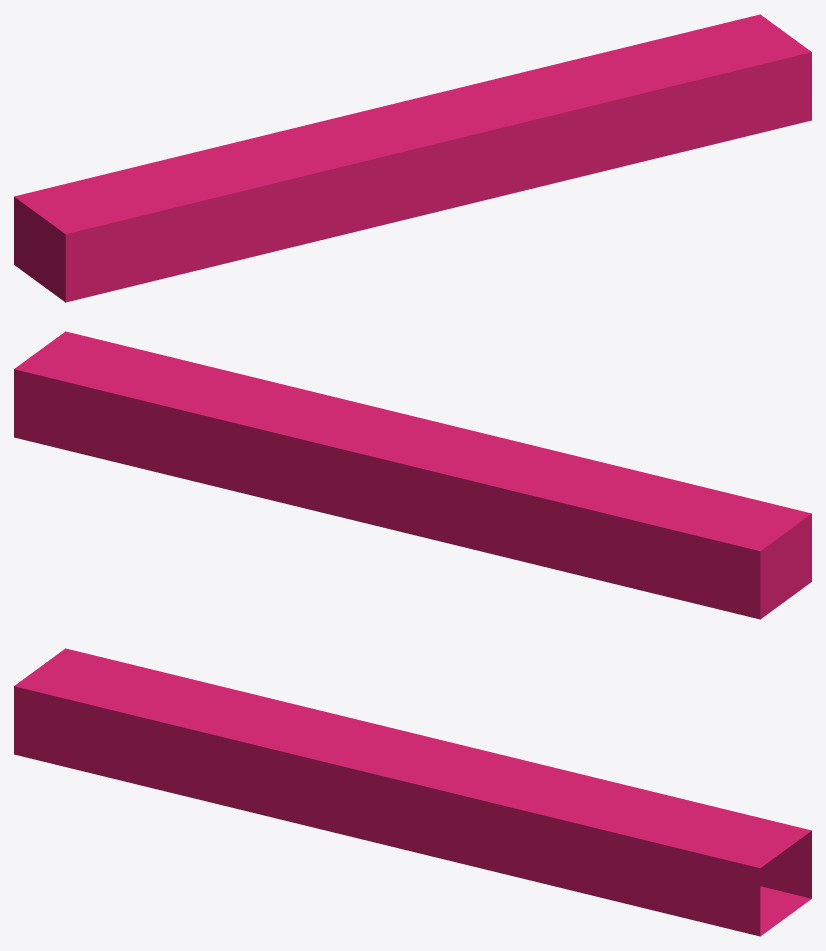
The model's file is barrel_01.fbx.
3 views of the same model, one above another, from view 1: azimuth 30°, elevation 25°; view 2: azimuth 150°, elevation 25°; view 3: azimuth 330°, elevation 25° (orthographic).
Visible parts, largest first — view 1: barrel_1.002; view 2: barrel_1.002; view 3: barrel_1.002.
Boxes of the visible parts, box(x1,y1,x2,y2) form: barrel_1.002: box(14, 14, 811, 302); barrel_1.002: box(14, 331, 811, 619); barrel_1.002: box(14, 648, 811, 936).
Size of the model in its own units: 1169 by 102 by 140.
